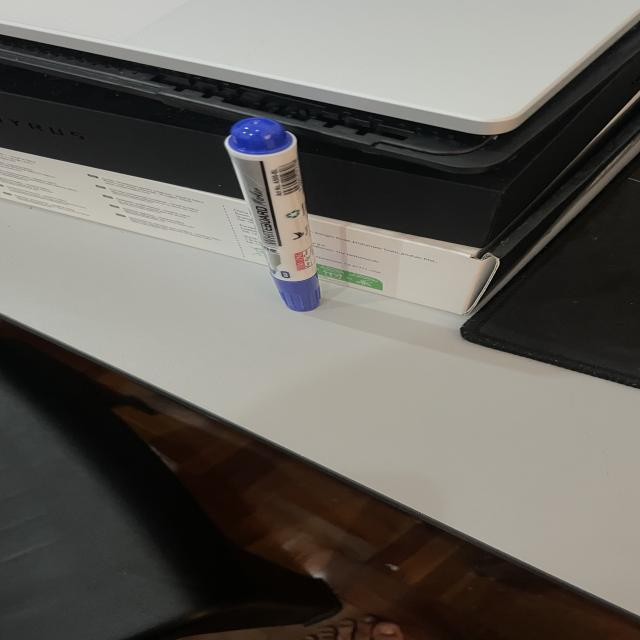marker: (225, 118, 319, 309)
